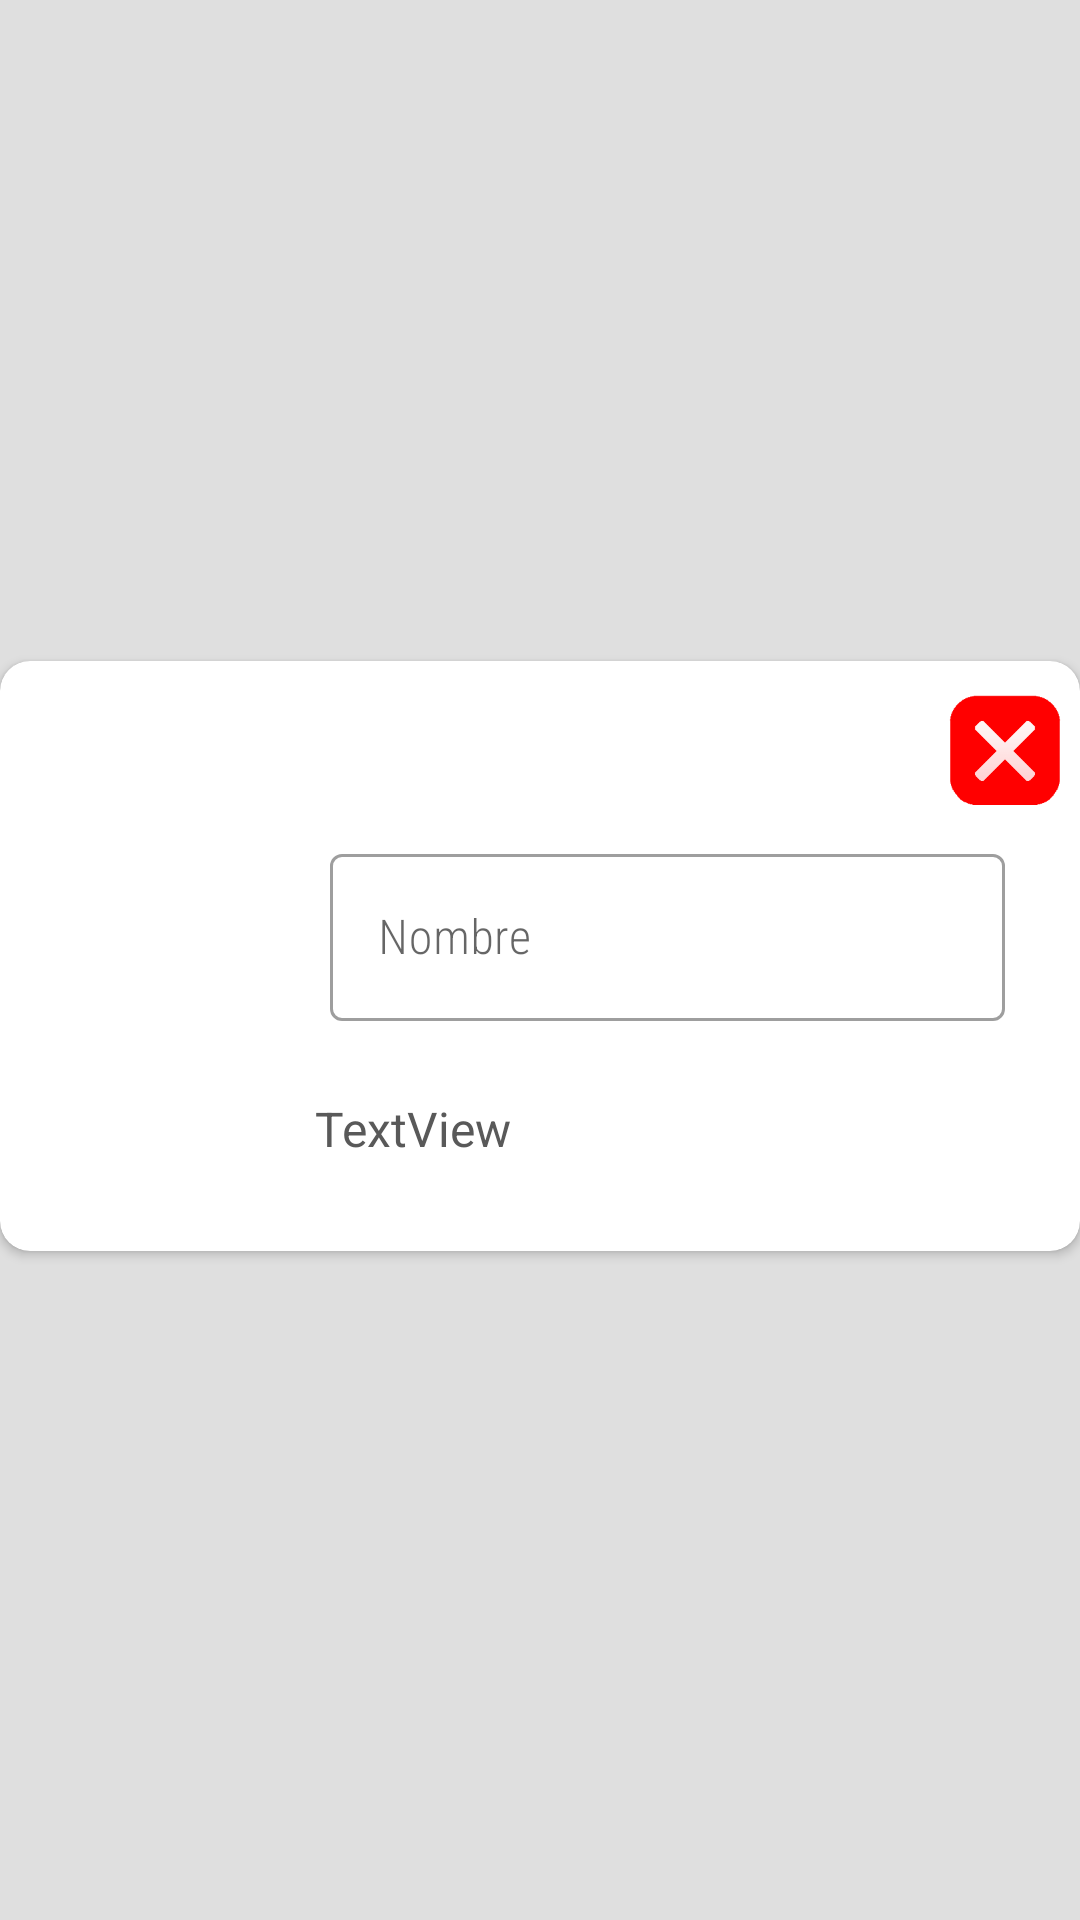

Named icons in this screenshot (1080px x 1920px) and their bounding boxes, (x1, y1, x2, y2):
close: (950, 695, 1060, 805)
